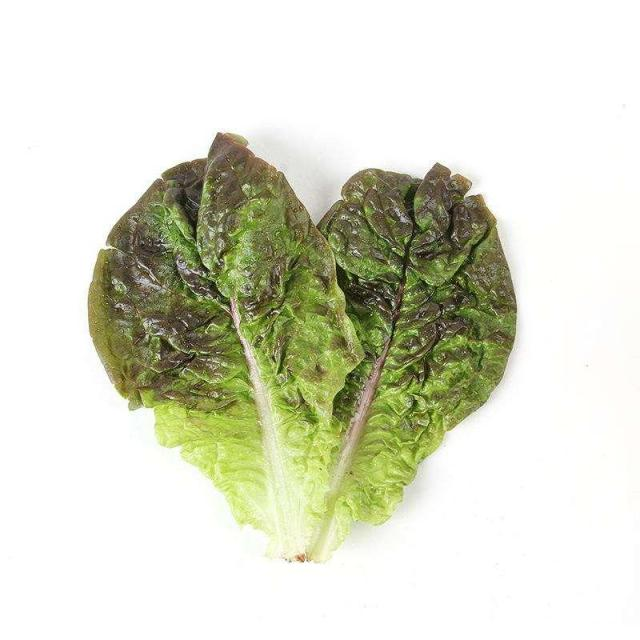-Kitchen waste - vegetable roots and leaves-: (85, 130, 364, 559), (312, 162, 518, 559)
